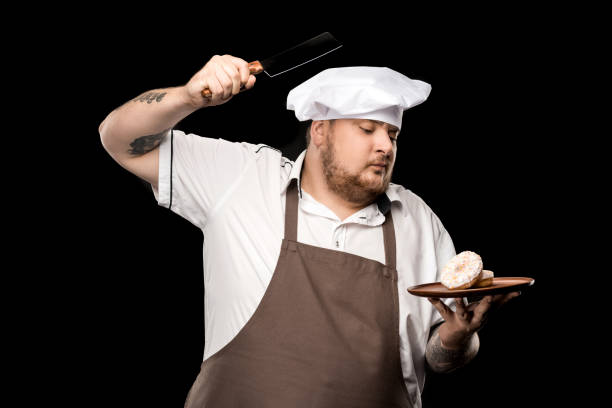knife: (199, 28, 346, 103)
